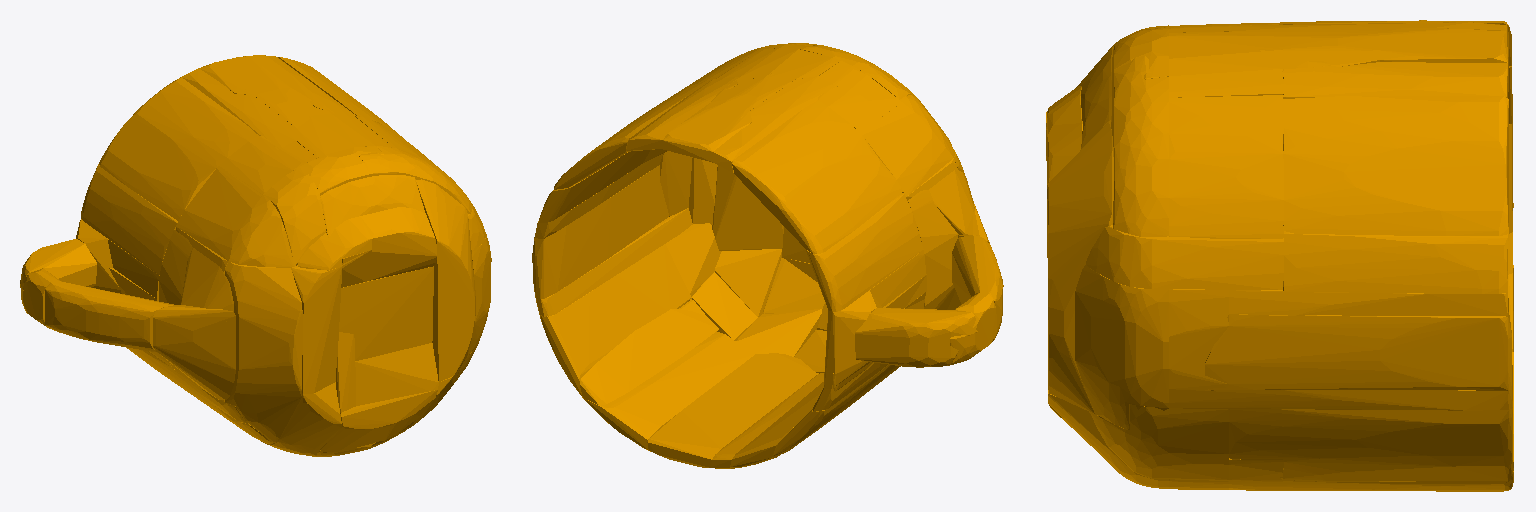
URDF robot description (cup-teal):
<?xml version="1.0" ?>
<robot name="cup-teal">
  <link name="baseLink">
    <contact>
      <lateral_friction value="1.0"/>
      <inertia_scaling value="3.0"/>
    </contact>
    <inertial>
      <origin rpy="0 0 0" xyz="0.000 0.000 0.000"/>
       <mass value=".1"/>
       <inertia ixx="1" ixy="0.0" ixz="0.0" iyy="1" iyz="0.0" izz="1"/>
    </inertial>
    <visual>
      <origin rpy="0 0 0" xyz="0 0 0"/>
      <geometry>
        <mesh filename="cup/cup-teal_pattern_ikea.obj" scale="1.0 1.0 1.0"/>
      </geometry>
    </visual>
    <collision>
      <origin rpy="0 0 0" xyz="0 0 0"/>
      <geometry>
        <mesh filename="../collision/cup/cup-teal_pattern_ikea.obj" scale="1.0 1.0 1.0"/>
      </geometry>
    </collision>
  </link>
</robot>
        

--- Render facts (derived) ---
The picture shows the robot from 3 angles, left to right: view 1: azimuth 30°, elevation 25°; view 2: azimuth 150°, elevation 25°; view 3: azimuth 270°, elevation 25°; orthographic projection.
Robot: cup-teal — 1 links, 0 joints (none); root link baseLink; default pose: all joints at 0.
Links seen in each view (by area): view 1: baseLink; view 2: baseLink; view 3: baseLink.
Boxes of the visible links, bbox=[...] form: baseLink: bbox=[20, 55, 491, 456]; baseLink: bbox=[532, 43, 1003, 468]; baseLink: bbox=[1046, 20, 1513, 491].
Size in the robot's own frame: 0.1302 by 0.0983 by 0.0987 metres.
1 mesh visuals loaded from 1 distinct referenced files (1 OBJ).